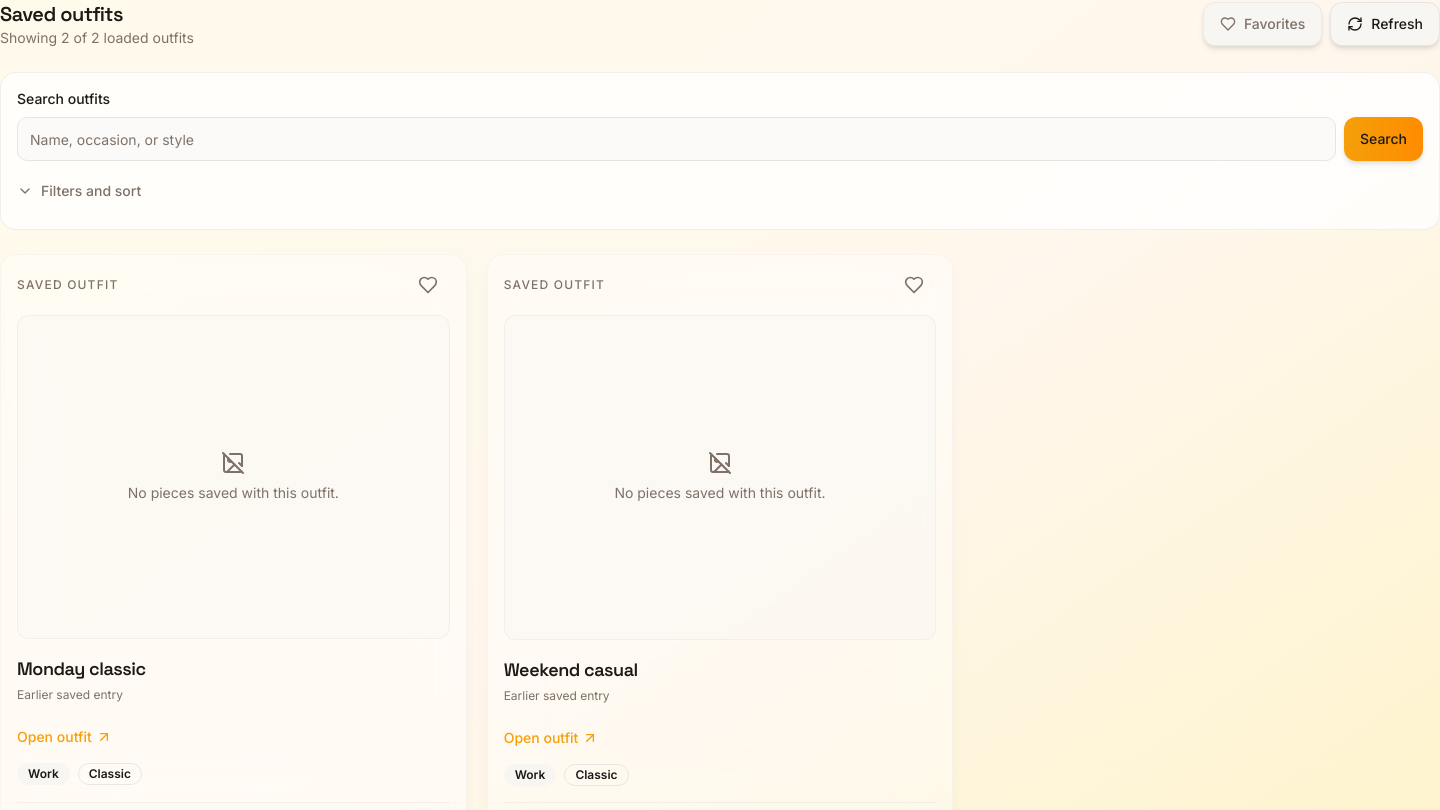
shows a genuine zero-result search and restores outfits after clearing it
Check: the heading "Monday classic" is shown, box top-left (17, 658), bottom-right (146, 680)
Type "nonexistent" into the field labelled "Search outfits". click: (676, 139)
box: top-left (17, 117), bottom-right (1336, 161)
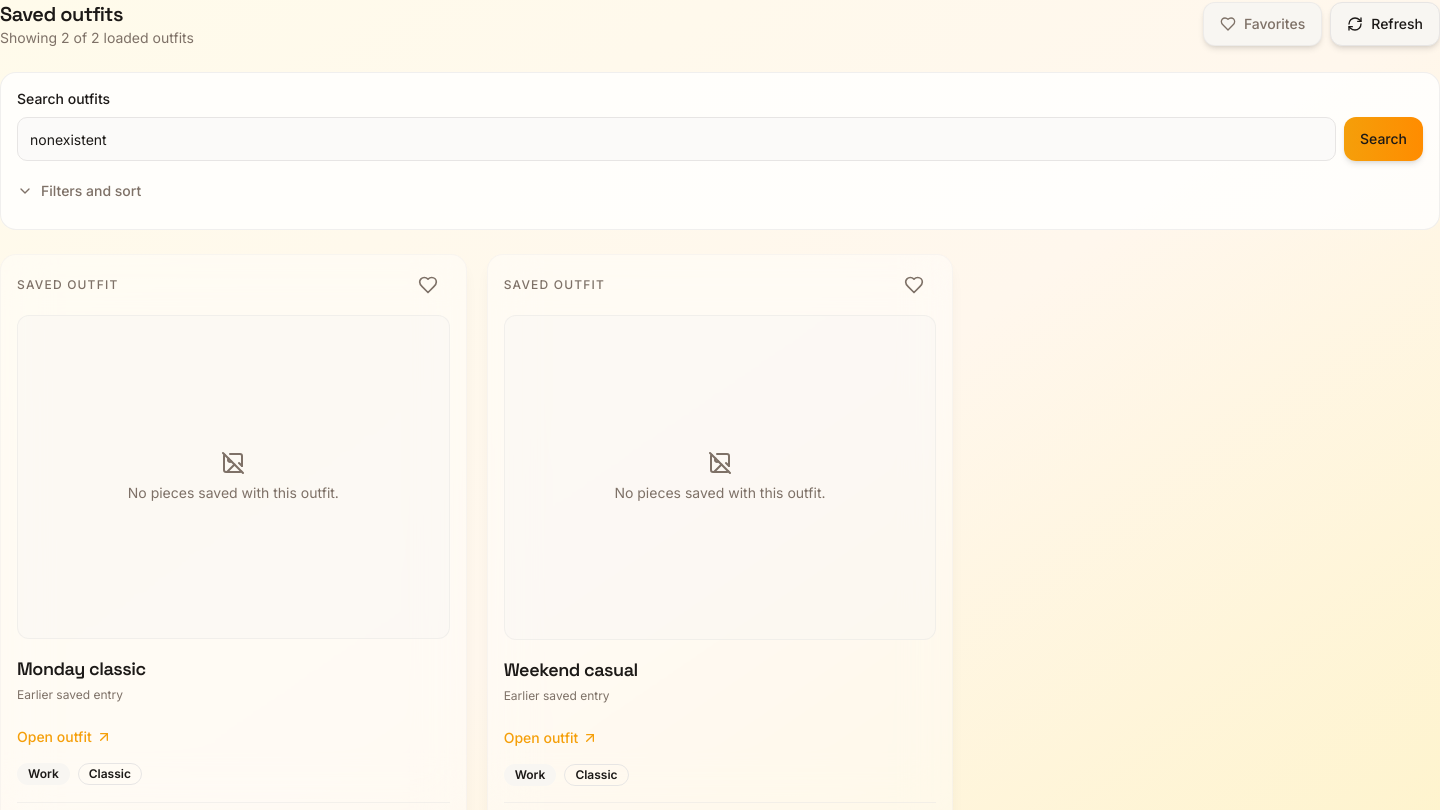
Click the button "Search". click: (1384, 139)
box: top-left (1344, 117), bottom-right (1423, 161)
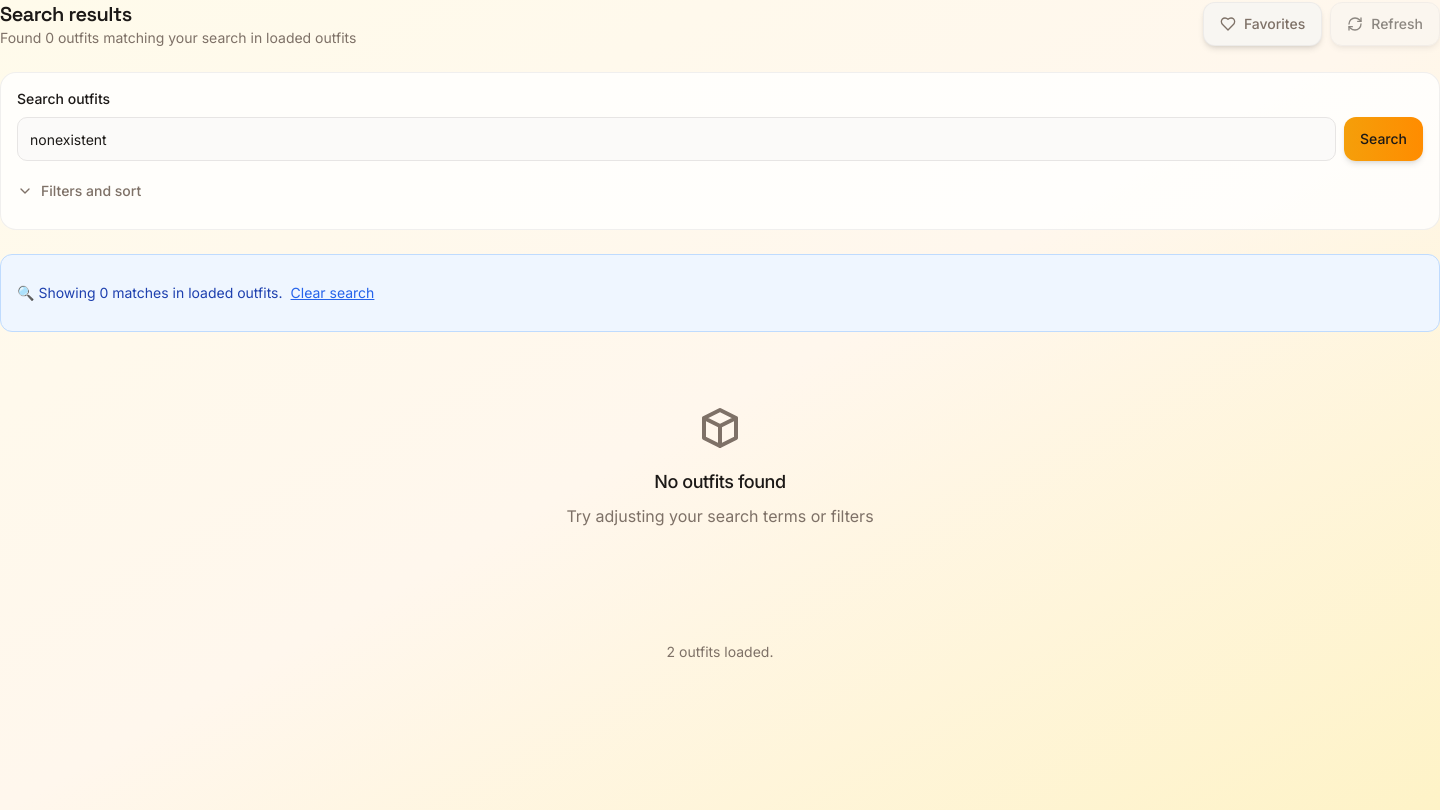
Check: the heading "No outfits found" is shown, box top-left (654, 471), bottom-right (786, 492)
Check: the link "Monday classic" is gone
Check: the text "Found 0 outfits matching your search in loaded outfits" is shown, box top-left (0, 28), bottom-right (356, 48)
Click the button "Clear search". click: (332, 293)
box: top-left (290, 271), bottom-right (374, 315)
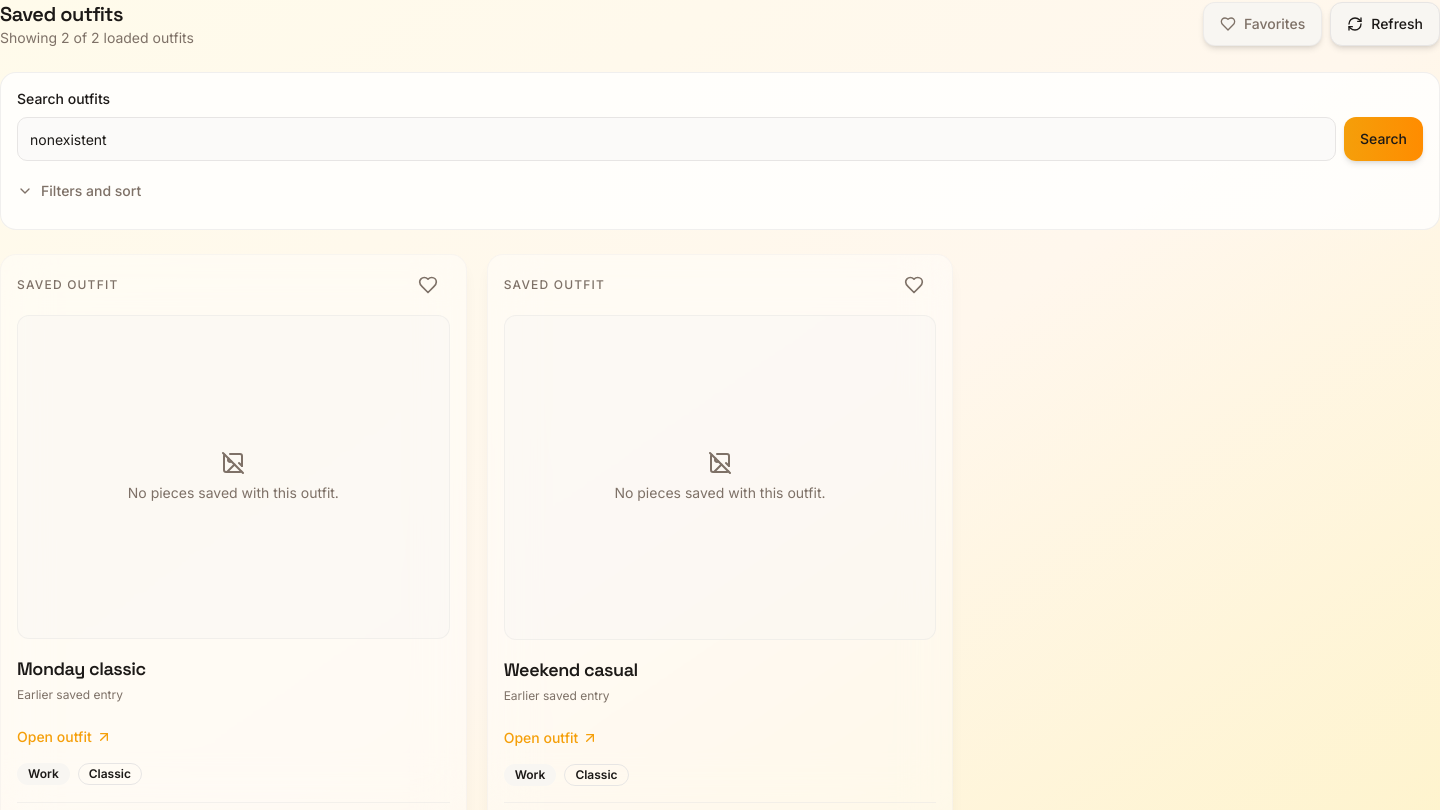
Check: the heading "Monday classic" is shown, box top-left (17, 658), bottom-right (146, 680)
